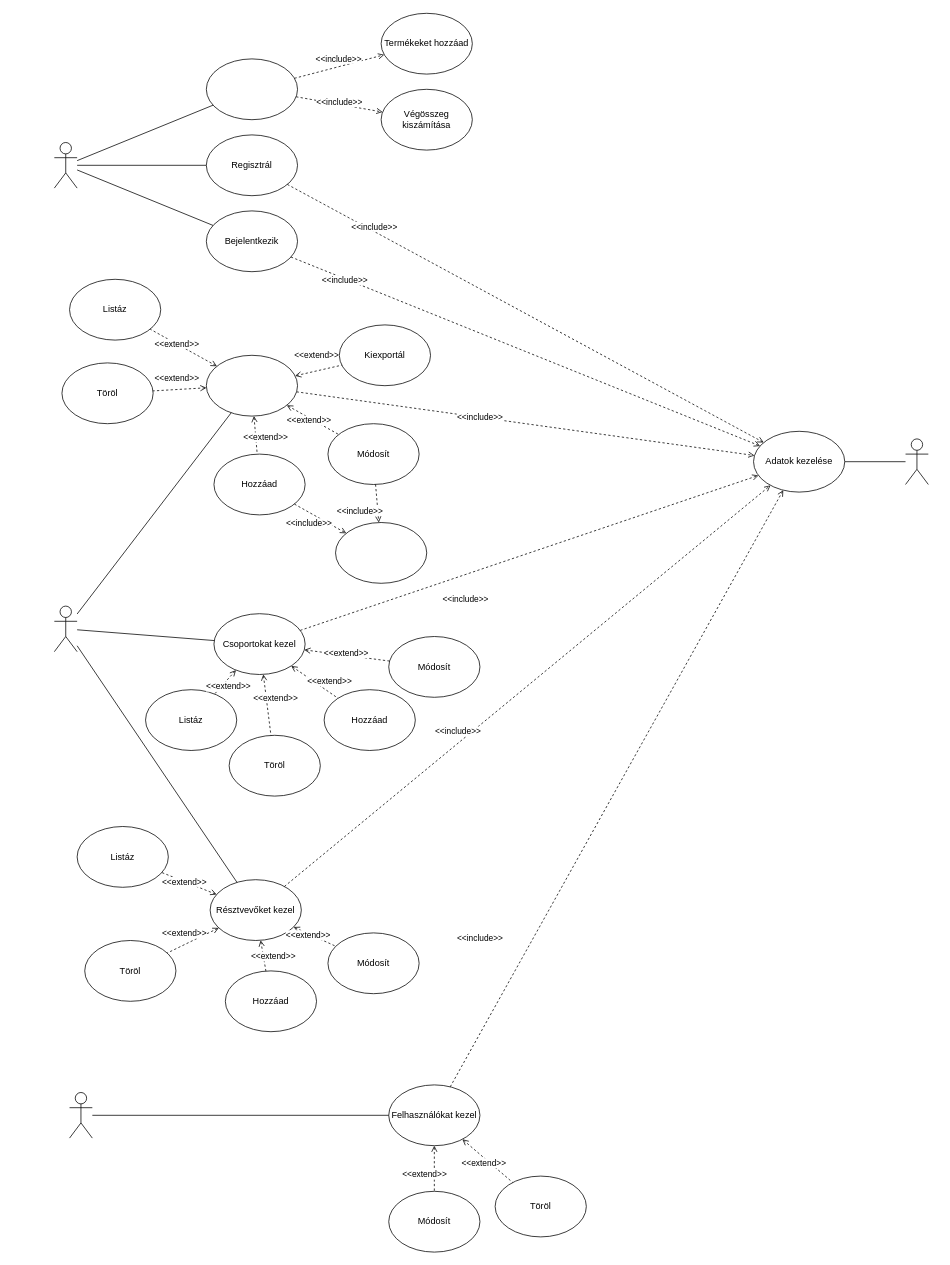
Image size: 950x1265. Some labels were removed from this diagram. Here are the shapes that lost their labels. From the top down, the centre of each, then its label:
At pixel 252 89: "Nyugtát létrehoz".
At pixel 65 165: "Látogató".
At pixel 252 385: "Nyugtákat kezel".
At pixel 916 461: "Adatbázis".
At pixel 381 552: "Adatok beolvasása képről".
At pixel 65 628: "Bejelentkezett felhasználó".
At pixel 80 1115: "Admin".
